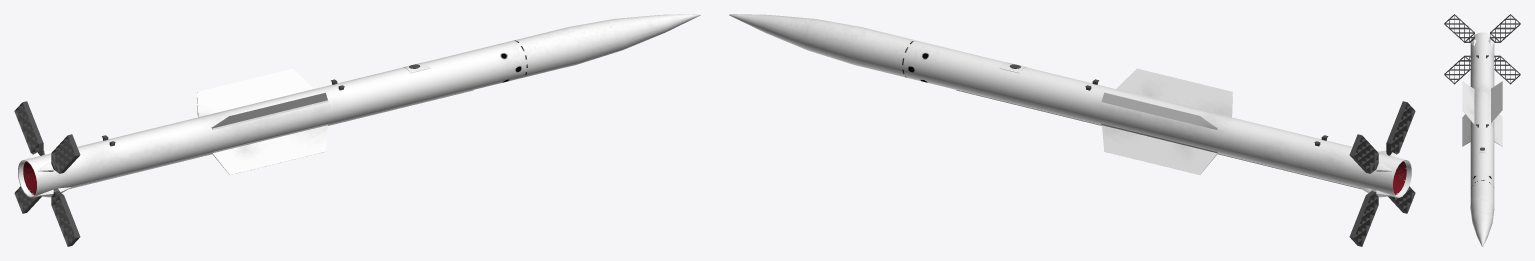
Rendered from r77_mustafa_garip.glb.
The picture shows the model from 3 angles, left to right: view 1: azimuth 30°, elevation 25°; view 2: azimuth 150°, elevation 25°; view 3: azimuth 270°, elevation 25°; orthographic projection. The views are drawn at different scales.
Parts seen in each view (by area): view 1: R-77; view 2: R-77; view 3: R-77.
Part boxes in pixels (x1,y1,x2,y2): R-77: (14,14,700,246); R-77: (729,14,1415,246); R-77: (1444,14,1520,246).
Size of the model in its own units: 3.6 by 0.5711 by 0.5711.
Materials: 1 (1 with a texture image).
